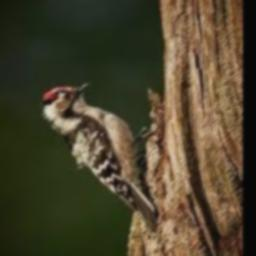Woodpecker: (40, 81, 156, 230)
